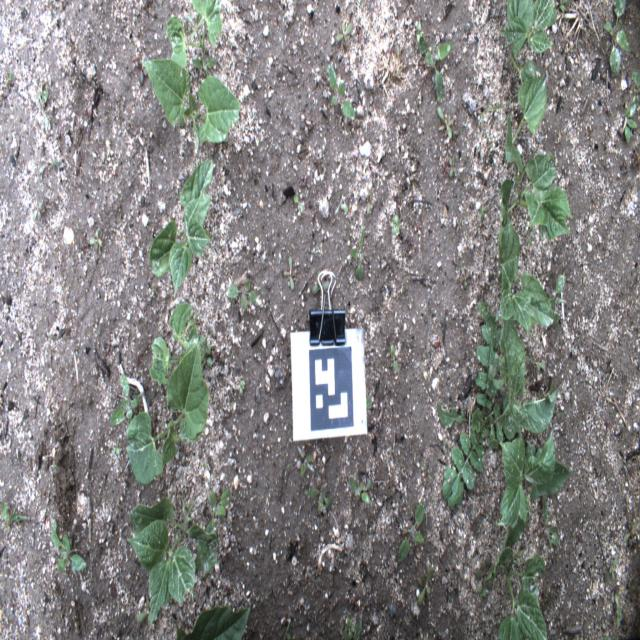crop: (126, 496, 218, 630), (125, 341, 210, 484), (497, 150, 573, 288), (140, 56, 240, 152), (149, 161, 213, 296), (496, 432, 572, 532), (499, 310, 559, 432), (495, 508, 548, 639), (499, 0, 554, 95), (497, 259, 555, 337), (506, 76, 548, 175), (150, 303, 199, 386), (165, 0, 222, 71), (175, 606, 250, 640)
weed: (437, 300, 524, 510), (416, 20, 453, 108), (51, 518, 88, 576), (603, 0, 630, 76), (396, 497, 425, 564), (479, 100, 512, 150), (328, 63, 356, 120), (224, 278, 262, 311), (544, 274, 567, 328), (206, 488, 231, 537), (348, 222, 366, 284), (600, 594, 622, 639), (475, 552, 496, 590), (417, 563, 434, 607), (37, 82, 51, 134), (349, 476, 373, 506), (138, 592, 160, 624), (545, 1, 573, 26), (0, 500, 28, 524), (304, 488, 332, 512), (297, 444, 315, 478), (312, 266, 332, 295), (191, 50, 216, 72), (198, 336, 213, 372), (624, 104, 637, 145), (436, 108, 452, 140), (133, 56, 150, 85), (342, 618, 362, 639), (283, 254, 295, 289), (624, 512, 638, 542), (458, 262, 472, 290), (335, 21, 353, 42), (88, 229, 102, 255), (334, 190, 348, 216), (389, 340, 399, 373), (606, 555, 618, 580), (631, 70, 639, 107), (390, 212, 401, 236), (447, 154, 458, 178), (299, 119, 314, 136), (366, 187, 375, 214), (32, 202, 44, 222), (293, 193, 305, 213), (282, 618, 293, 639), (344, 618, 356, 637), (423, 464, 433, 482), (111, 438, 120, 457), (198, 437, 206, 458), (476, 586, 486, 600), (365, 395, 373, 410), (478, 204, 485, 220), (238, 378, 244, 396), (422, 353, 430, 365), (310, 249, 321, 256)
